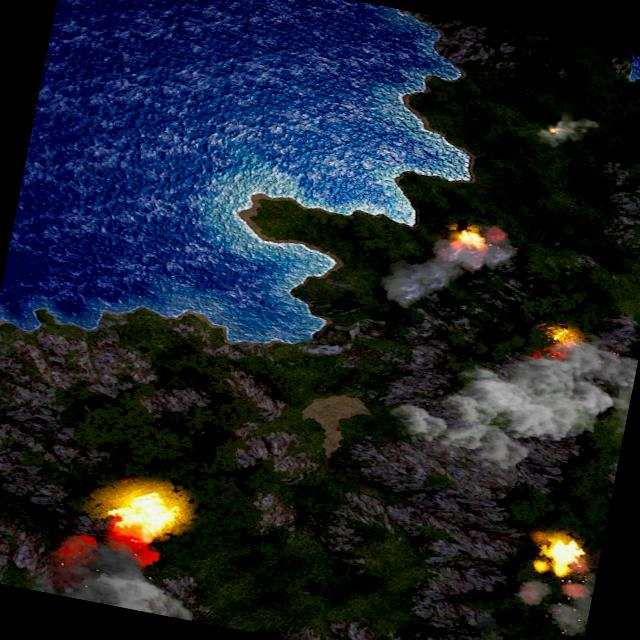fire: (103, 483, 182, 547), (537, 532, 586, 580), (536, 322, 582, 362), (449, 225, 488, 252), (546, 123, 564, 137)
smoke: (388, 312, 638, 493), (38, 524, 204, 620), (382, 220, 524, 328), (511, 568, 595, 635), (530, 108, 597, 154)
